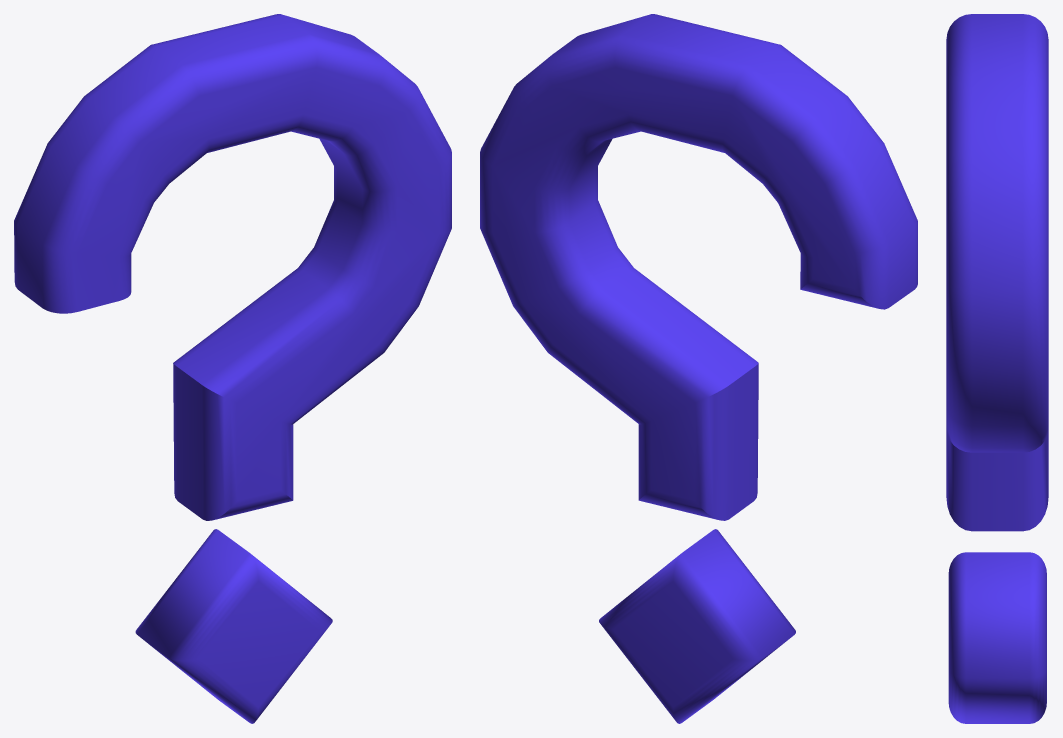
File: QUESTION_MARK.glb
3 views of the same model, side by side, from view 1: azimuth 30°, elevation 25°; view 2: azimuth 150°, elevation 25°; view 3: azimuth 270°, elevation 25° (orthographic).
Visible parts, largest first — view 1: ?, .; view 2: ?, .; view 3: ?, ..
Boxes of the visible parts, x1,y1,x2,y2 form: ?: (14, 14, 451, 520); .: (135, 529, 332, 723); ?: (480, 14, 917, 520); .: (599, 529, 795, 723); ?: (946, 14, 1048, 531); .: (948, 552, 1046, 723).
Bounding box in the file's own units: 0.3331 × 0.5268 × 0.072.
